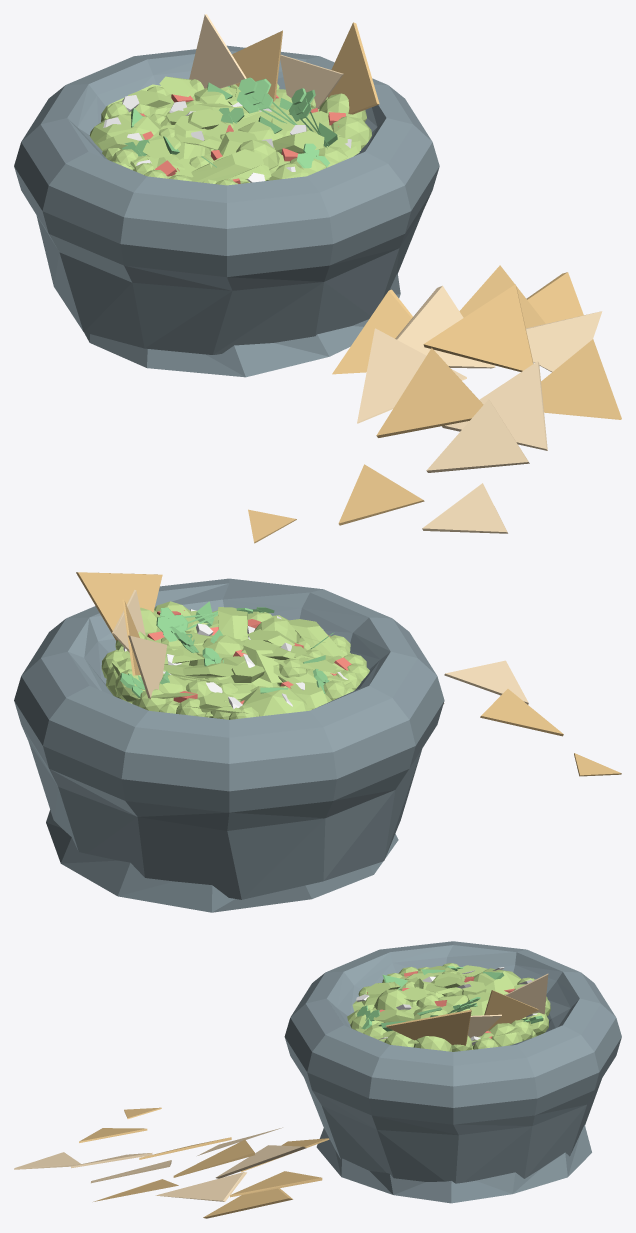
The model's file is guak.gltf.
3 views of the same model, one above another, from view 1: azimuth 30°, elevation 25°; view 2: azimuth 150°, elevation 25°; view 3: azimuth 270°, elevation 25° (orthographic). The views are drawn at different scales.
Visible parts, largest first — view 1: Node; view 2: Node; view 3: Node.
Boxes of the visible parts, x1,y1,x2,y2 form: Node: (14, 14, 621, 543); Node: (14, 572, 621, 912); Node: (14, 941, 621, 1218).
Bounding box in the file's own units: 0.286 × 0.1835 × 0.4505.
